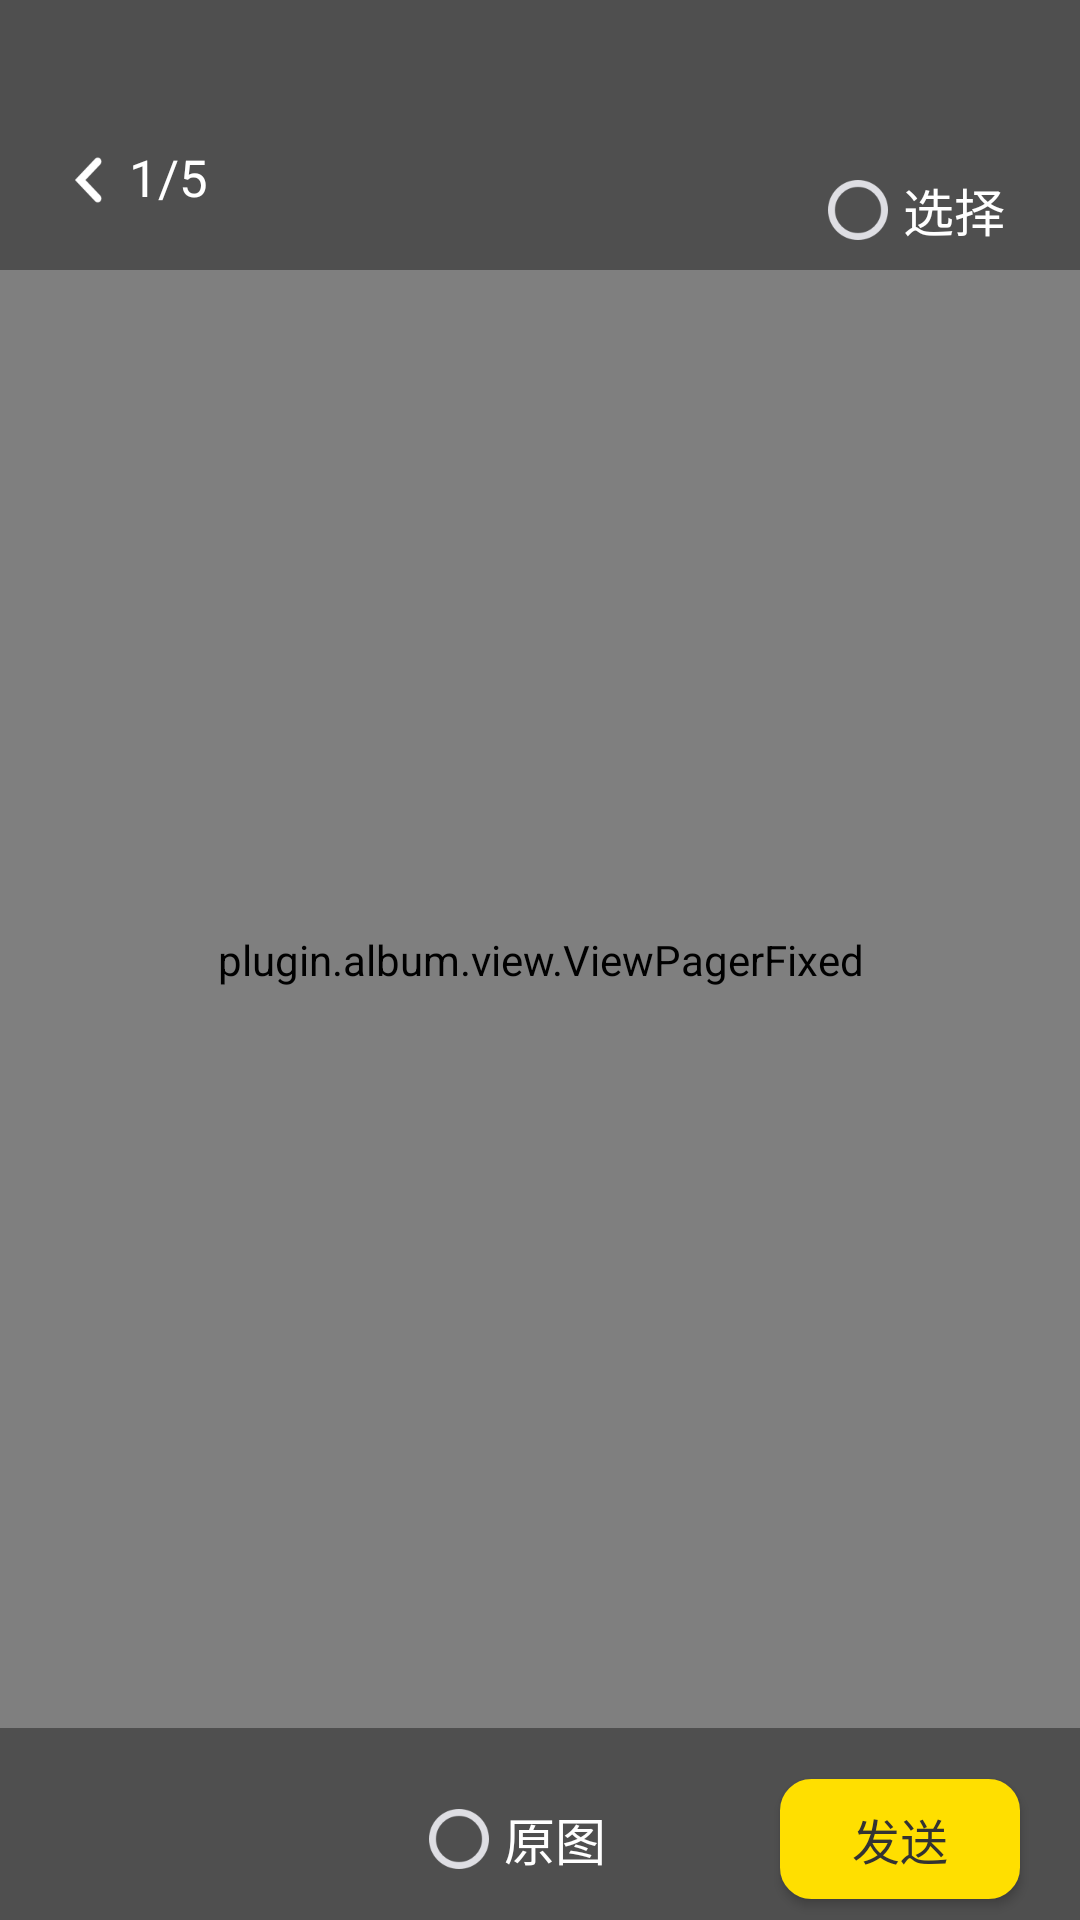

Icons on this 1080*1920 Android screen, each with its box as region(x1, y1, x2, y2):
back: region(75, 157, 102, 203)
